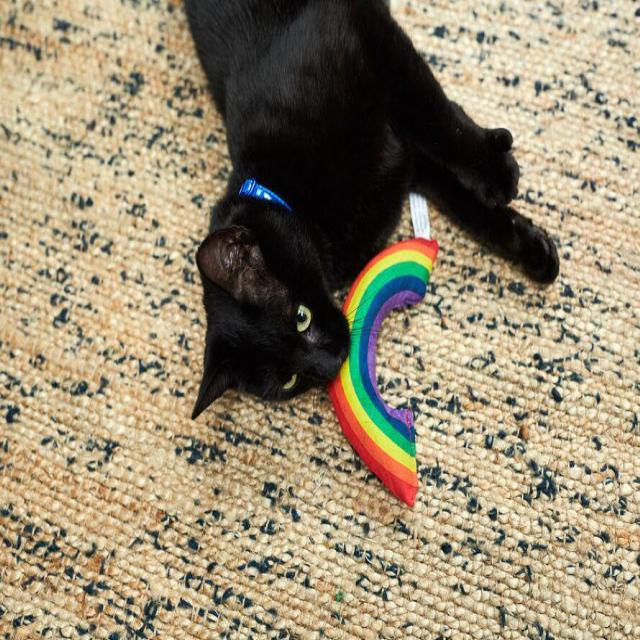cat: (156, 1, 342, 429)
